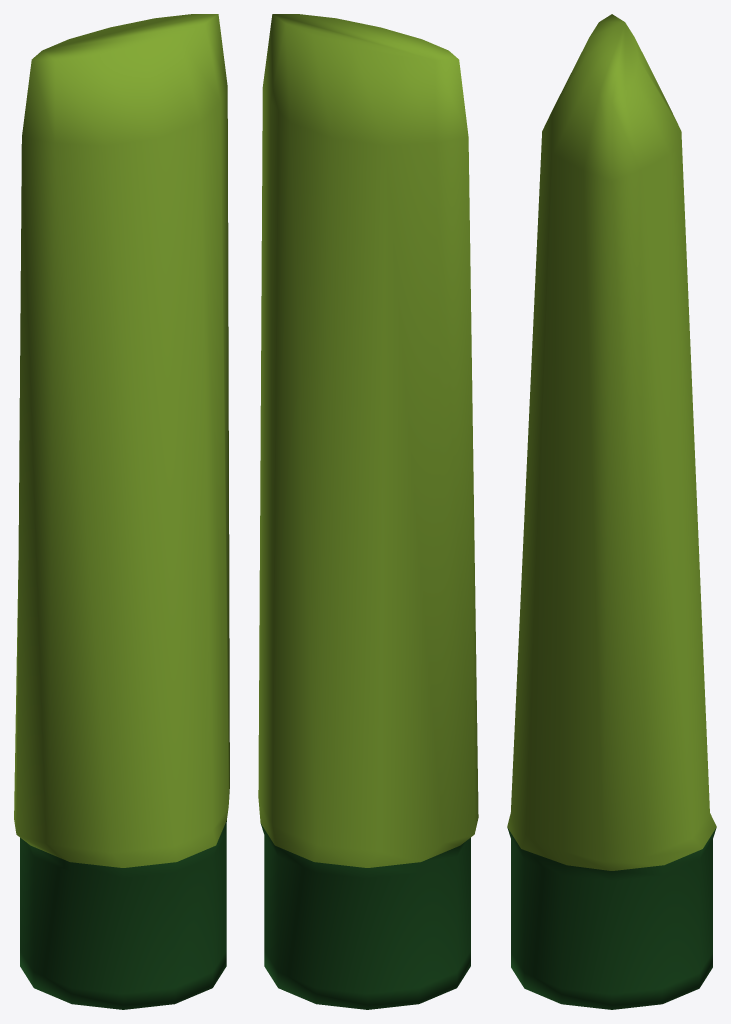
Rendered from Prop_Beauty_09.fbx.
3 renders of one model, left to right at view 1: azimuth 30°, elevation 25°; view 2: azimuth 150°, elevation 25°; view 3: azimuth 270°, elevation 25°, orthographic. The views are drawn at different scales.
Visible parts, largest first — view 1: Prop_Beauty_09; view 2: Prop_Beauty_09; view 3: Prop_Beauty_09.
Boxes of the visible parts, x1,y1,x2,y2 form: Prop_Beauty_09: [14, 14, 229, 1009]; Prop_Beauty_09: [258, 14, 478, 1009]; Prop_Beauty_09: [507, 14, 716, 1009].
Size of the model in its own units: 5.11 by 21.43 by 4.48.
